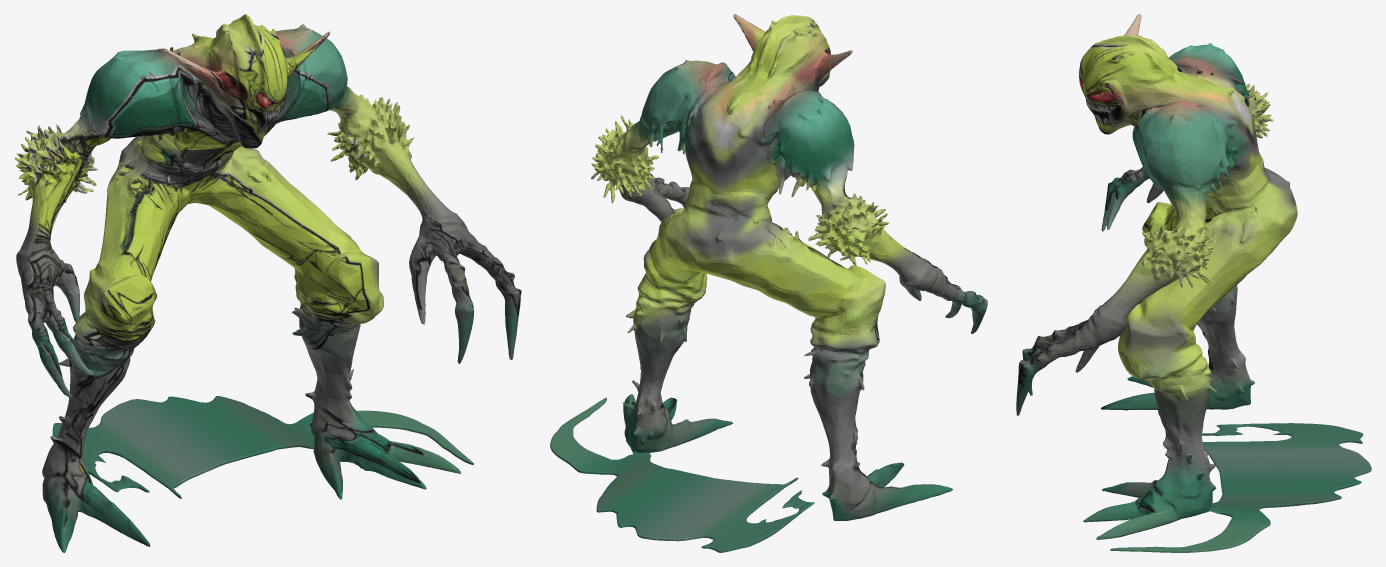
The model's file is cone_captain_local.glb.
The picture shows the model from 3 angles, left to right: view 1: azimuth 30°, elevation 25°; view 2: azimuth 150°, elevation 25°; view 3: azimuth 270°, elevation 25°; orthographic projection. The views are drawn at different scales.
Parts seen in each view (by area): view 1: geometry_0; view 2: geometry_0; view 3: geometry_0.
Part boxes in pixels (x1=…): geometry_0: x1=14, y1=14, x2=521, y2=552; geometry_0: x1=550, y1=14, x2=987, y2=552; geometry_0: x1=1016, y1=14, x2=1371, y2=552.
Bounding box in the file's own units: 1.81 × 1.95 × 1.48.
1 material, 1 textured.
